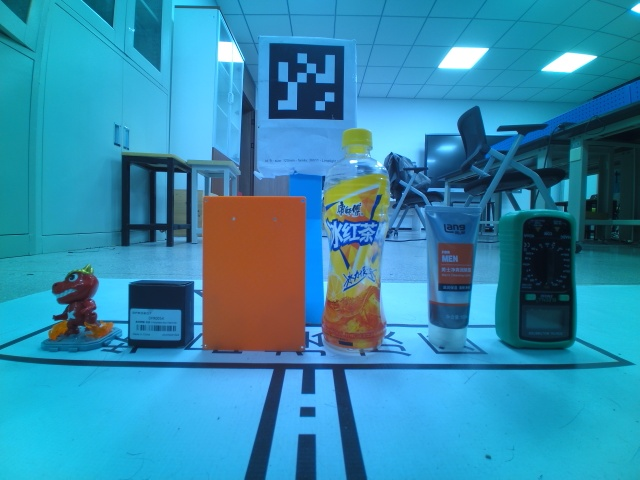banzi: (127, 280, 195, 348)
binghongcha: (40, 262, 123, 353)
dabao: (422, 204, 482, 350)
dianbiao: (321, 127, 390, 356)
hezi: (494, 208, 579, 350)
long: (201, 195, 308, 352)
